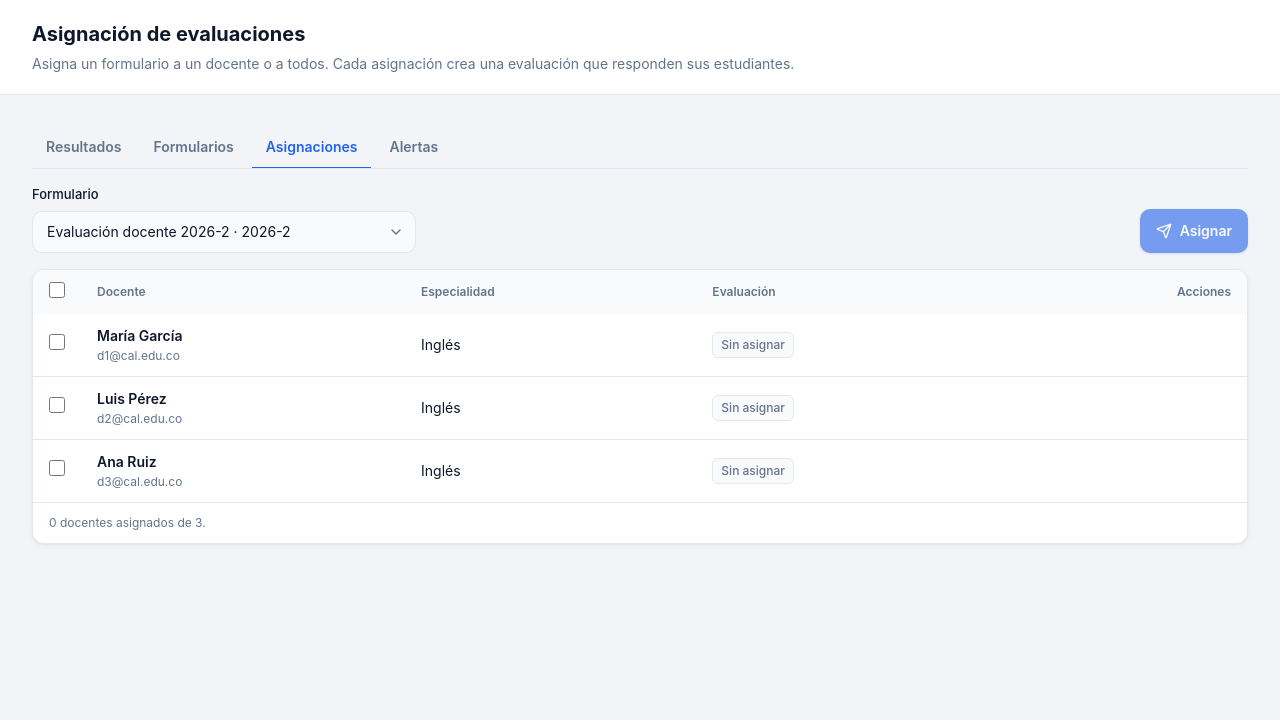
Test: Asignación de evaluaciones (RF-31, RF-32) › asigna el formulario a un solo docente
Click the checkbox named "Seleccionar a Luis Pérez" at (57, 405), box [49,397,65,413]
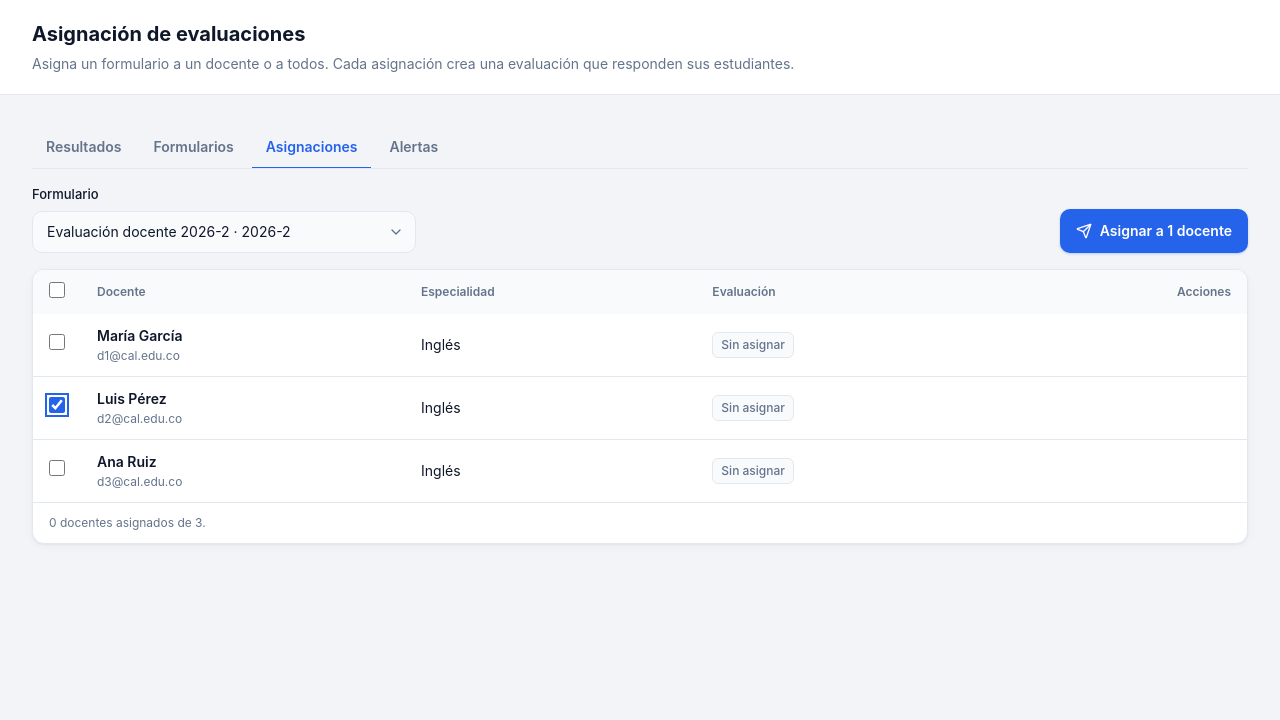
Click the button "Asignar a 1 docente" at (1154, 230), box [1060,208,1248,252]
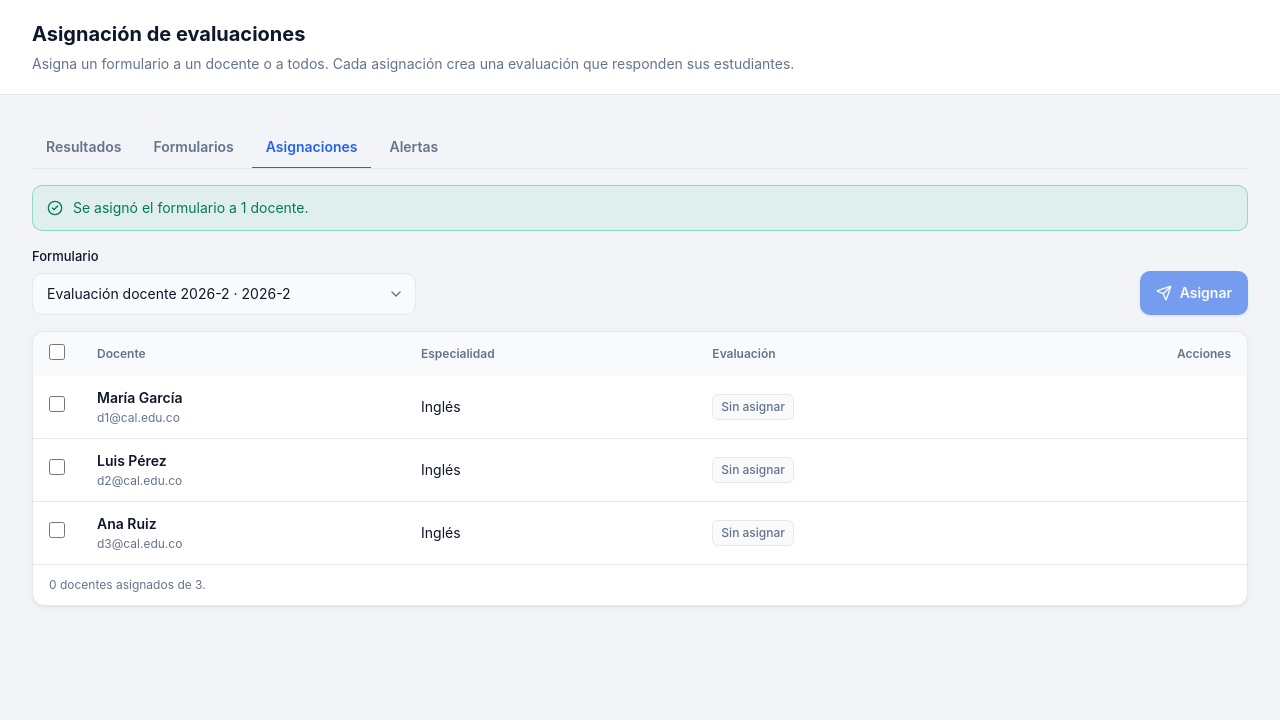
expect the text "Se asignó el formulario a 1 docente." is shown: met, box [73,198,308,218]
